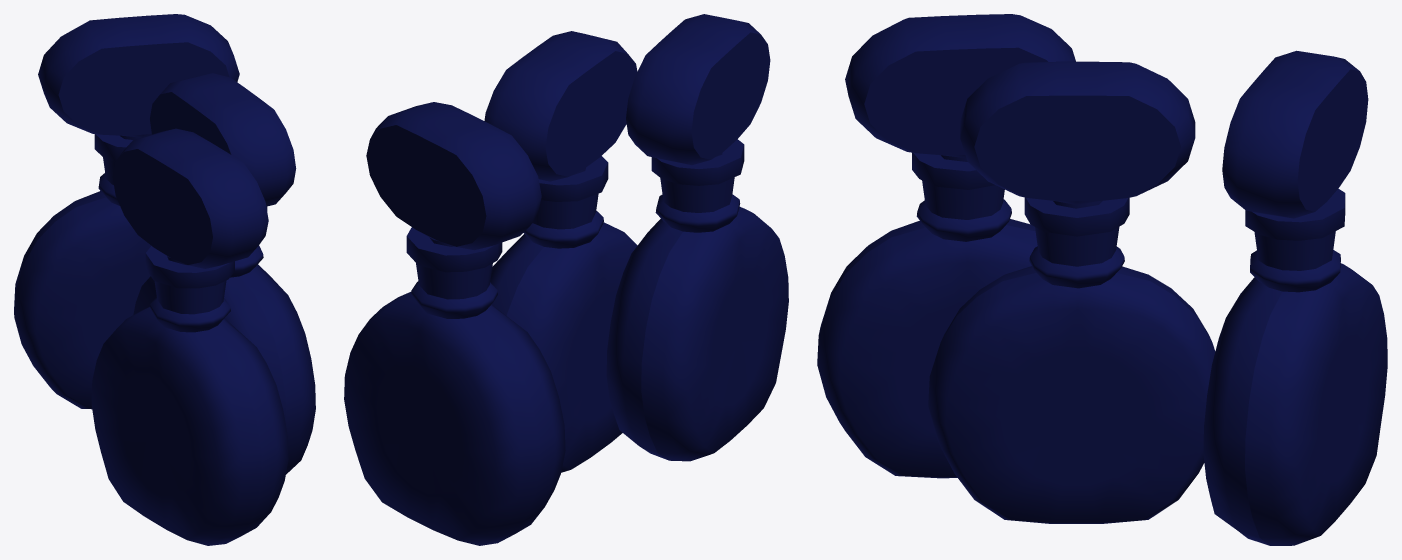
Rendered from SM_Tonic_Bottle_Set1.FBX.
The picture shows the model from 3 angles, left to right: view 1: azimuth 30°, elevation 25°; view 2: azimuth 150°, elevation 25°; view 3: azimuth 270°, elevation 25°; orthographic projection. The views are drawn at different scales.
Visible parts, largest first — view 1: EveBottleLow001; view 2: EveBottleLow001; view 3: EveBottleLow001.
Boxes of the visible parts, x1,y1,x2,y2 form: EveBottleLow001: [14, 14, 315, 545]; EveBottleLow001: [344, 14, 788, 545]; EveBottleLow001: [817, 14, 1387, 545].
Size of the model in its own units: 28.27 by 42.72 by 49.56.
